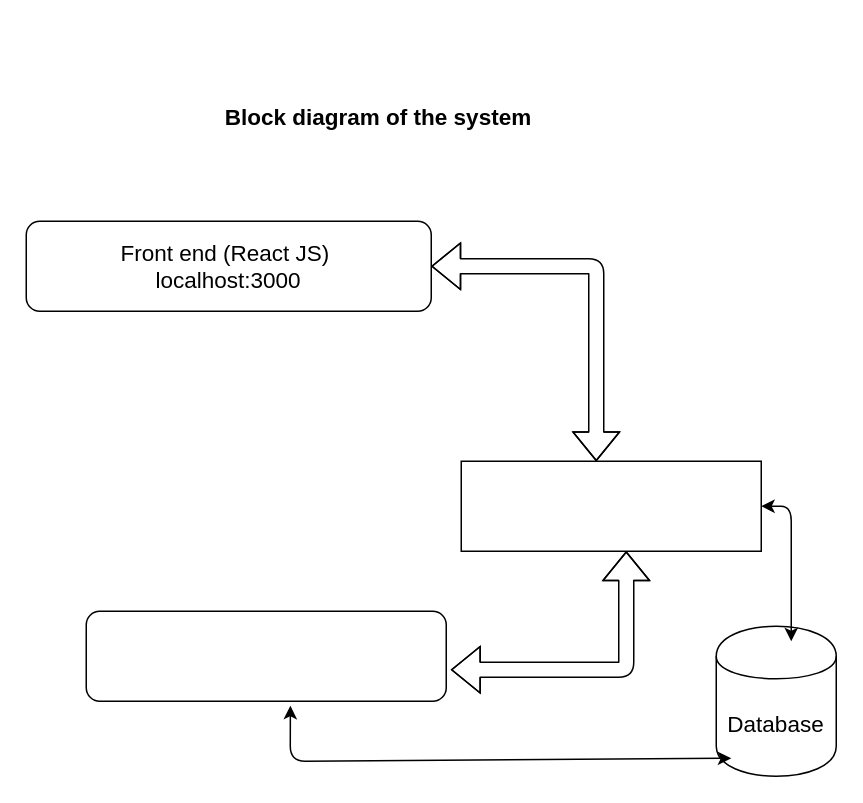
The diagram is 863 pixels wide and 803 high, and some of its shapes have lost their labels. Each missing label, with the centre of its shape:
"Backend (Django)" belongs at (265,655).
"Rest API (Django rest framework)" belongs at (610,505).
